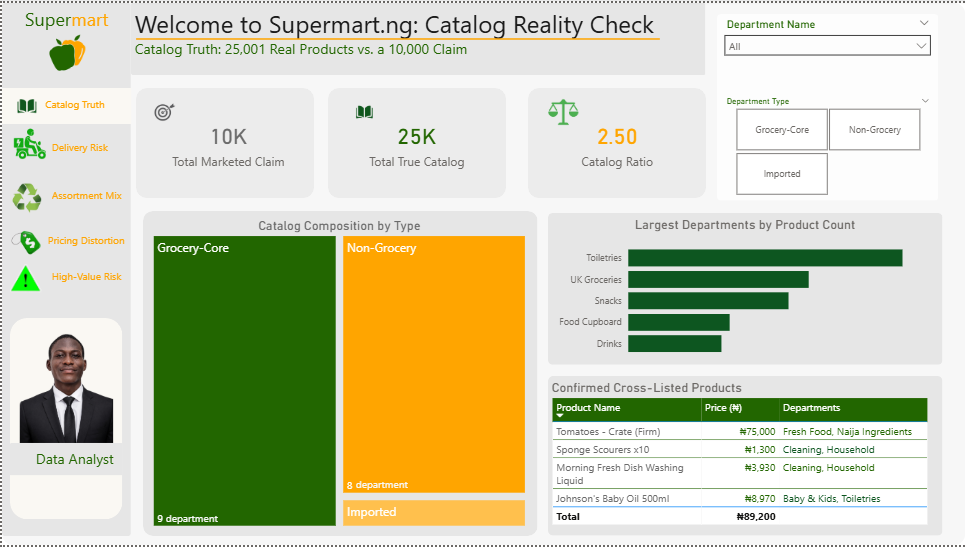

The page's visual inventory and layout, read from the dashboard file:
{"tool":"powerbi","page":{"name":"Catalog Truth","canvas":[1280,720],"ordinal":0},"visuals":[{"type":"shape","box":[0,0,1279.8,720],"z":0},{"type":"shape","box":[950,14.9,294.3,248],"z":0,"group":"g7"},{"type":"shape","box":[177.8,113.5,236.6,146.4],"z":0,"group":"g1"},{"type":"actionButton","box":[0,164.3,171.8,50.8],"z":0,"group":"g4"},{"type":"shape","box":[0,0,171.4,708],"z":1000},{"type":"shape","box":[432.6,113.5,236.6,146.4],"z":1000,"group":"g1"},{"type":"slicer","fields":{"Values":["public dim_department.department_type"]},"box":[950,119.5,294.3,141.9],"z":1000,"group":"g7"},{"type":"actionButton","box":[0,236,171.8,50.8],"z":1000,"group":"g4"},{"type":"shape","box":[171.8,0,763.3,95.6],"z":2000},{"type":"slicer","fields":{"Values":["public fact_products.department_name"]},"box":[950,14.9,294.3,64.2],"z":2000,"group":"g7"},{"type":"shape","box":[698.6,113.5,236.6,146.4],"z":2000,"group":"g1"},{"type":"actionButton","box":[0,286.8,171.8,50.8],"z":2000,"group":"g4"},{"type":"textbox","box":[171.8,0,763.3,95.6],"z":3000},{"type":"actionButton","box":[0,343.6,171.8,50.8],"z":3000,"group":"g4"},{"type":"image","box":[43.3,31.4,86.6,64.2],"z":4000},{"type":"group","id":"g1","title":"Group 1","box":[177.8,113.5,757.3,146.4],"z":5000},{"type":"textbox","box":[0,0,171.8,50.8],"z":6000},{"type":"shape","box":[177.8,0,696.1,95.6],"z":7000},{"type":"card","fields":{"Values":["public dim_department.Total Marketed Claim"]},"box":[186.7,113.5,227.1,146.4],"z":8000},{"type":"card","fields":{"Values":["public dim_department.Total True Catalog"]},"box":[433.2,113.5,236,146.4],"z":9000},{"type":"card","fields":{"Values":["public dim_department.Catalog Ratio"]},"box":[700.6,113.5,234.5,146.4],"z":10000},{"type":"group","id":"g2","title":"Group 2","box":[0,113.5,171.8,278],"z":11000},{"type":"image","box":[14.9,164.3,44.8,48],"z":11000,"group":"g5"},{"type":"group","id":"g3","title":"Group 4","box":[44.8,121,132.9,262.9],"z":12000},{"type":"textbox","box":[44.8,121,127,34.4],"z":12000,"group":"g3"},{"type":"group","id":"g4","title":"Group 5","box":[0,164.3,171.8,230],"z":13000},{"type":"textbox","box":[61.2,177.8,110.5,34.4],"z":13000,"group":"g3"},{"type":"image","box":[12,236,43.3,47.8],"z":13000,"group":"g5"},{"type":"textbox","box":[61.2,242,110.5,34.4],"z":14000,"group":"g3"},{"type":"shape","box":[726,279.3,524.3,201.7],"z":14000},{"type":"image","box":[10.5,295.7,44,48],"z":14000,"group":"g5"},{"type":"group","id":"g5","title":"Group 3","box":[0,113.5,171.8,278],"z":14003,"group":"g2"},{"type":"shape","box":[186.7,276.3,524.3,431.7],"z":15000},{"type":"textbox","box":[55.3,301.7,116.5,34.4],"z":15000,"group":"g3"},{"type":"treemap","title":"Catalog Composition by Type","fields":{"Group":["public dim_department.department_type"],"Values":["CountNonNull(public dim_department.category_page_count)"]},"box":[197.2,285.3,503.4,413.8],"z":16000},{"type":"image","box":[10.5,343.5,44,48],"z":16000,"group":"g5"},{"type":"textbox","box":[61.2,349.5,116.5,34.4],"z":16000,"group":"g3"},{"type":"shape","box":[0,113.5,171.8,47.8],"z":16250,"group":"g5"},{"type":"image","box":[10.5,113.5,44.8,48],"z":16500,"group":"g5"},{"type":"image","box":[446.6,125.5,70.2,40.3],"z":17000},{"type":"shape","box":[726,495.9,524.3,212.1],"z":18000},{"type":"clusteredBarChart","title":"Largest Departments by Product Count","fields":{"Category":["public dim_department.department_name"],"Y":["Sum(public dim_department.category_page_count)"]},"box":[729,283.9,515.7,196.5],"z":19000},{"type":"shape","box":[10.5,418.3,149.4,267.4],"z":19000,"group":"g6"},{"type":"tableEx","title":"Confirmed Cross-Listed Products","fields":{"Values":["DuplicateProducts.Product_Name","Sum(DuplicateProducts.Price_Naira)","DuplicateProducts.Departments"]},"box":[725.3,501,518.9,207.8],"z":20000},{"type":"shape","box":[10.5,584.1,149.4,43.3],"z":20000,"group":"g6"},{"type":"image","box":[711,125.5,70.2,40],"z":21000},{"type":"image","box":[10.5,418.3,149.4,165.8],"z":21000,"group":"g6"},{"type":"image","box":[177.8,125.5,70.2,40.3],"z":22000},{"type":"textbox","box":[32.9,587.1,127,38.8],"z":22000,"group":"g6"},{"type":"group","id":"g6","title":"Group 6","box":[10.5,418.3,149.4,267.4],"z":23000},{"type":"group","id":"g7","title":"Group 7","box":[950,14.9,294.3,248],"z":24000},{"type":"textbox","box":[212.5,670.8,83.7,27.9],"z":25000},{"type":"textbox","box":[464.9,625.7,86.3,27.9],"z":26000}]}

Visuals, with their boxes in screenshot pixels (x1, y1, x2, y2), scaled from the page's 1280x720 canvas onto the 965x547 screenshot:
shape: [x1=0, y1=0, x2=964, y2=546]
shape: [x1=716, y1=11, x2=938, y2=200]
shape: [x1=134, y1=86, x2=312, y2=197]
actionButton: [x1=0, y1=125, x2=130, y2=163]
shape: [x1=0, y1=0, x2=129, y2=538]
shape: [x1=326, y1=86, x2=505, y2=197]
slicer - public dim_department.department_type: [x1=716, y1=91, x2=938, y2=199]
actionButton: [x1=0, y1=179, x2=130, y2=218]
shape: [x1=130, y1=0, x2=705, y2=73]
slicer - public fact_products.department_name: [x1=716, y1=11, x2=938, y2=60]
shape: [x1=527, y1=86, x2=705, y2=197]
actionButton: [x1=0, y1=218, x2=130, y2=256]
textbox: [x1=130, y1=0, x2=705, y2=73]
actionButton: [x1=0, y1=261, x2=130, y2=300]
image: [x1=33, y1=24, x2=98, y2=73]
"Group 1" group: [x1=134, y1=86, x2=705, y2=197]
textbox: [x1=0, y1=0, x2=130, y2=39]
shape: [x1=134, y1=0, x2=659, y2=73]
card - public dim_department.Total Marketed Claim: [x1=141, y1=86, x2=312, y2=197]
card - public dim_department.Total True Catalog: [x1=327, y1=86, x2=505, y2=197]
card - public dim_department.Catalog Ratio: [x1=528, y1=86, x2=705, y2=197]
"Group 2" group: [x1=0, y1=86, x2=130, y2=297]
image: [x1=11, y1=125, x2=45, y2=161]
"Group 4" group: [x1=34, y1=92, x2=134, y2=292]
textbox: [x1=34, y1=92, x2=130, y2=118]
"Group 5" group: [x1=0, y1=125, x2=130, y2=300]
textbox: [x1=46, y1=135, x2=129, y2=161]
image: [x1=9, y1=179, x2=42, y2=216]
textbox: [x1=46, y1=184, x2=129, y2=210]
shape: [x1=547, y1=212, x2=943, y2=365]
image: [x1=8, y1=225, x2=41, y2=261]
"Group 3" group: [x1=0, y1=86, x2=130, y2=297]
shape: [x1=141, y1=210, x2=536, y2=538]
textbox: [x1=42, y1=229, x2=130, y2=255]
"Catalog Composition by Type" treemap: [x1=149, y1=217, x2=528, y2=531]
image: [x1=8, y1=261, x2=41, y2=297]
textbox: [x1=46, y1=266, x2=134, y2=292]
shape: [x1=0, y1=86, x2=130, y2=123]
image: [x1=8, y1=86, x2=42, y2=123]
image: [x1=337, y1=95, x2=390, y2=126]
shape: [x1=547, y1=377, x2=943, y2=538]
"Largest Departments by Product Count" clusteredBarChart: [x1=550, y1=216, x2=938, y2=365]
shape: [x1=8, y1=318, x2=121, y2=521]
"Confirmed Cross-Listed Products" tableEx: [x1=547, y1=381, x2=938, y2=538]
shape: [x1=8, y1=444, x2=121, y2=477]
image: [x1=536, y1=95, x2=589, y2=126]
image: [x1=8, y1=318, x2=121, y2=444]
image: [x1=134, y1=95, x2=187, y2=126]
textbox: [x1=25, y1=446, x2=121, y2=476]
"Group 6" group: [x1=8, y1=318, x2=121, y2=521]
"Group 7" group: [x1=716, y1=11, x2=938, y2=200]
textbox: [x1=160, y1=510, x2=223, y2=531]
textbox: [x1=350, y1=475, x2=416, y2=497]
